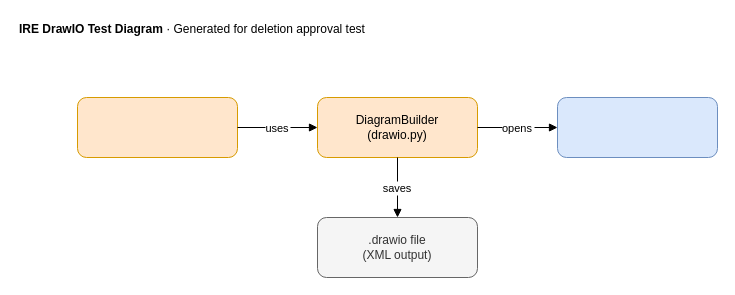
Image size: 735x295. Some labels were removed from this diagram. The centre of each missing label's shape, as x and y in pixels:
"Intel draw.io drawio-ai.intel.com" belongs at (x=637, y=127).
"IRE-DrawIO.py" belongs at (x=157, y=127).
